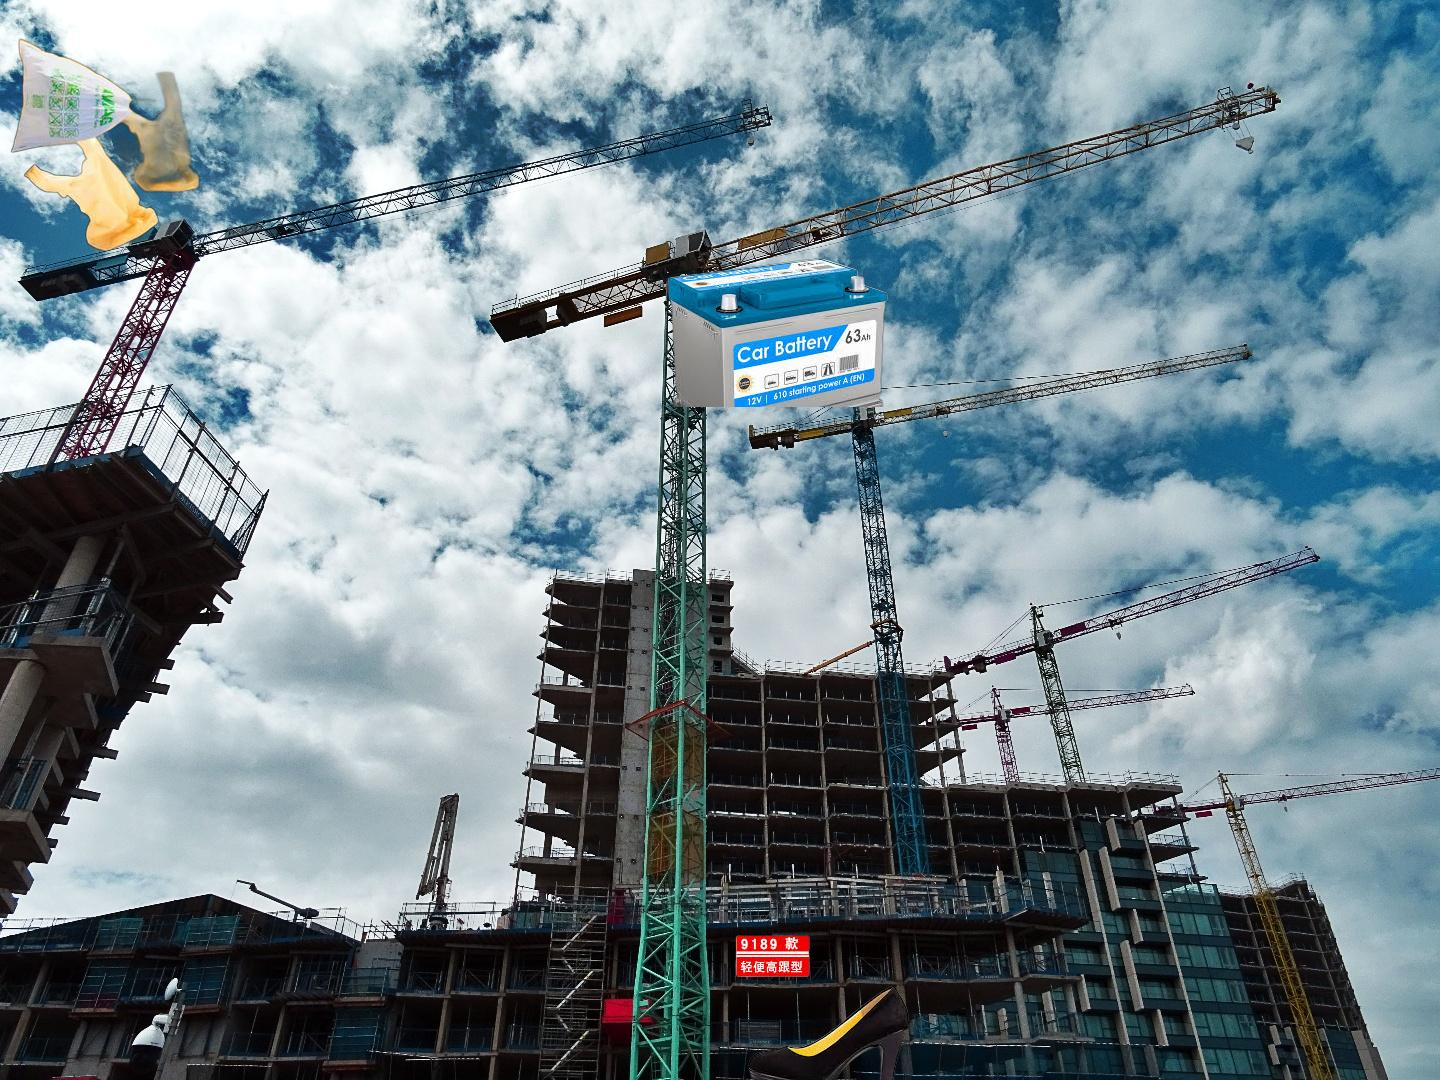battery: (664, 256, 891, 407)
plastic-bag: (10, 36, 202, 252)
shoes: (732, 933, 945, 1080)
